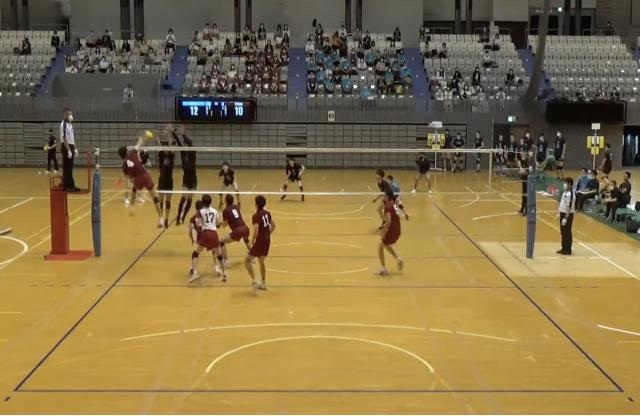spike: (116, 127, 168, 229)
